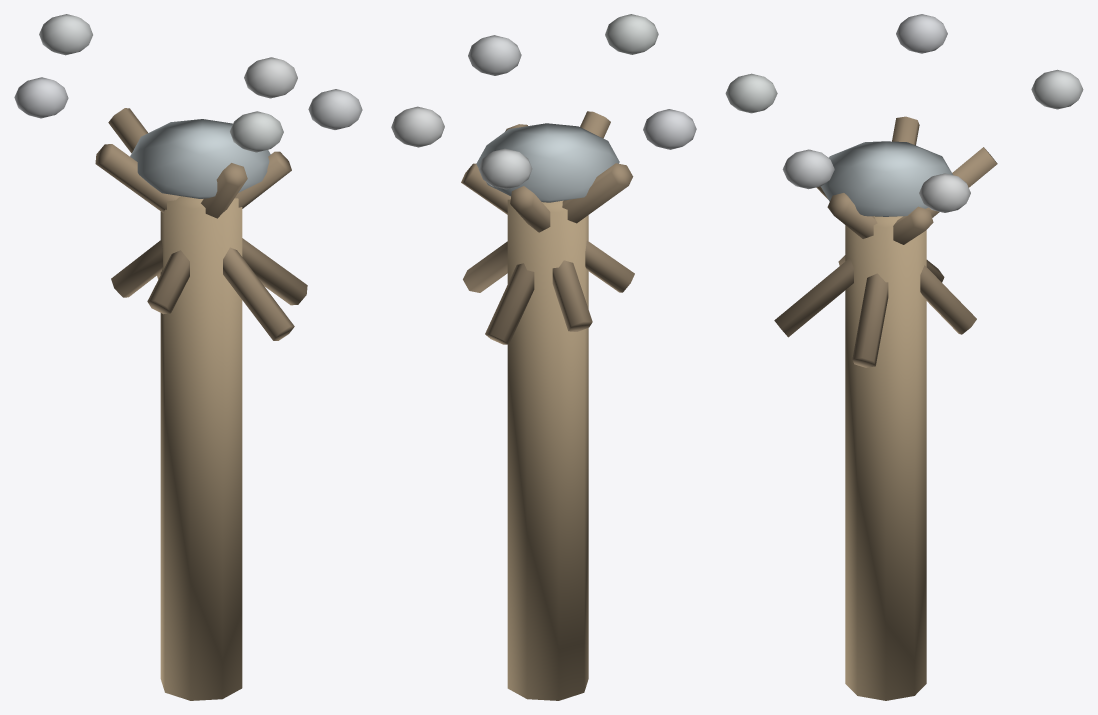
Rendered from plant_tree_oak_winter.glb.
3 renders of one model, left to right at view 1: azimuth 30°, elevation 25°; view 2: azimuth 150°, elevation 25°; view 3: azimuth 270°, elevation 25°, orthographic. The views are drawn at different scales.
Visible parts, largest first — view 1: trunk, snow_cap, branch0, branch4, branch2, snow0, snow4, snow2, snow3, snow1, branch3, branch1; view 2: trunk, snow_cap, branch0, branch1, branch3, branch2, snow2, snow4, snow1, snow3, snow0, branch4; view 3: trunk, snow_cap, branch4, branch0, branch1, snow1, snow2, snow0, snow4, snow3, branch2, branch3.
Part boxes in pixels (box(x1,y1,x2,y2)): trunk: box(160, 196, 242, 700); snow_cap: box(130, 119, 270, 198); branch0: box(95, 144, 307, 305); branch4: box(108, 108, 294, 340); branch2: box(111, 151, 291, 297); snow0: box(14, 77, 68, 118); snow4: box(39, 14, 92, 55); snow2: box(308, 89, 362, 129); snow3: box(244, 57, 297, 98); snow1: box(230, 111, 283, 152); branch3: box(147, 250, 189, 314); branch1: box(157, 163, 247, 279); trunk: box(507, 199, 588, 700); snow_cap: box(476, 123, 619, 202); branch0: box(463, 163, 633, 292); branch1: box(485, 111, 610, 344); branch3: box(461, 163, 634, 292); branch2: box(505, 124, 592, 331); snow2: box(468, 35, 521, 75); snow4: box(478, 148, 532, 189); snow1: box(605, 14, 658, 54); snow3: box(391, 106, 444, 147); snow0: box(643, 109, 696, 149); branch4: box(510, 186, 550, 232); trunk: box(845, 216, 926, 700); snow_cap: box(821, 141, 952, 216); branch4: box(774, 147, 997, 337); branch0: box(852, 116, 919, 367); branch1: box(816, 186, 976, 334); snow1: box(725, 73, 777, 113); snow2: box(782, 149, 834, 189); snow0: box(896, 14, 947, 53); snow4: box(1031, 69, 1083, 109); snow3: box(919, 173, 970, 212); branch2: box(827, 193, 944, 282); branch3: box(838, 206, 933, 265).
Size of the model in its own units: 0.5525 by 1.14 by 0.6172.
